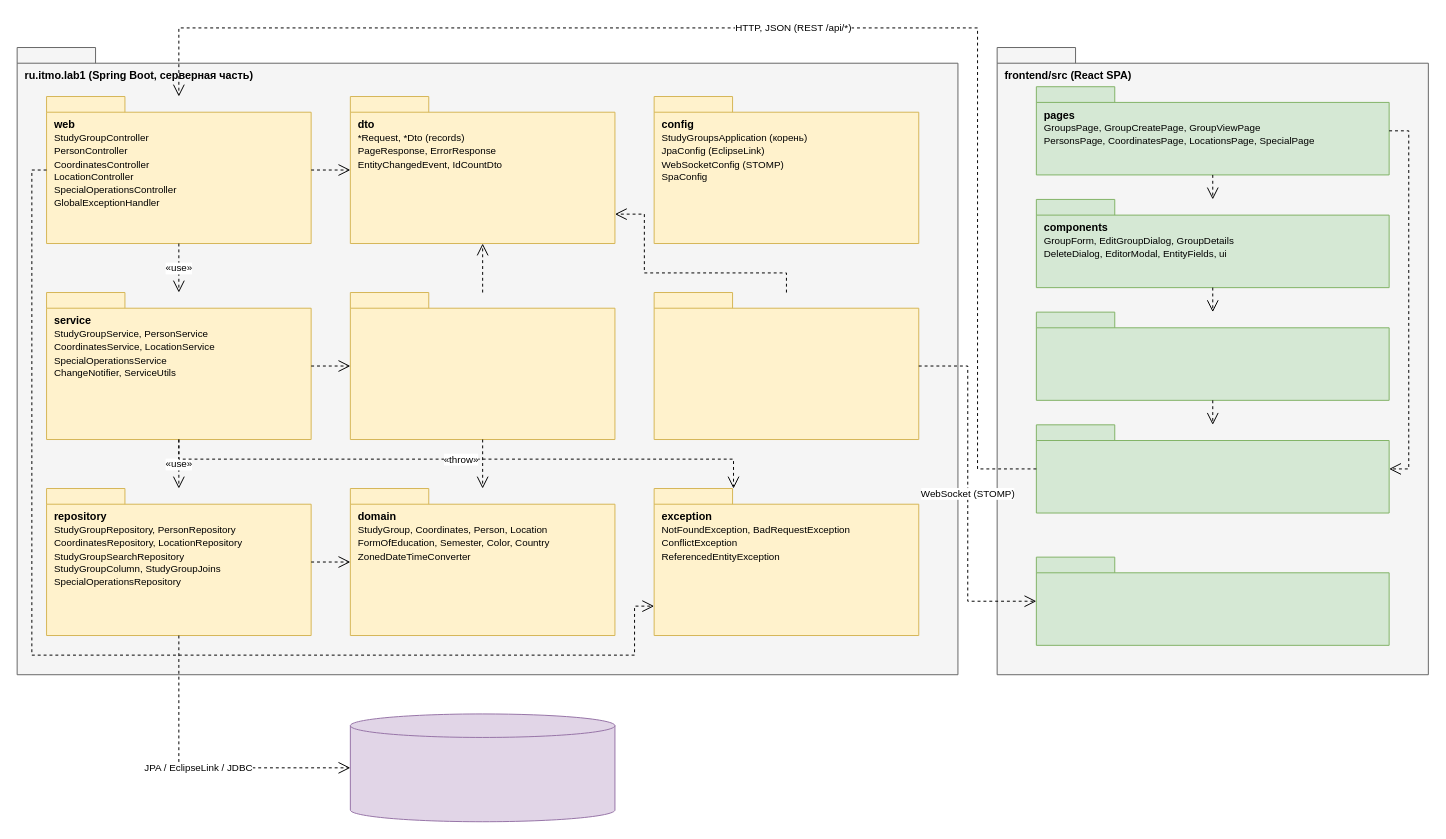
Image size: 1446x839. Some labels were removed from this diagram. Here are the shapes that lost their labels. From the top down, the centre of each, then its label:
the point at 482,366: mapper DtoMapper
the point at 786,366: realtime ChangeBroadcaster
the point at 1212,355: forms model.ts: состояние форм, валидация, build*()
the point at 1212,468: api client.ts (fetch, ApiError) endpoints.ts, types.ts
the point at 1212,600: realtime useRealtime.ts (STOMP-клиент)
the point at 482,767: PostgreSQL таблицы, CHECK, FK функции sg_*() (миграции Flyway)
